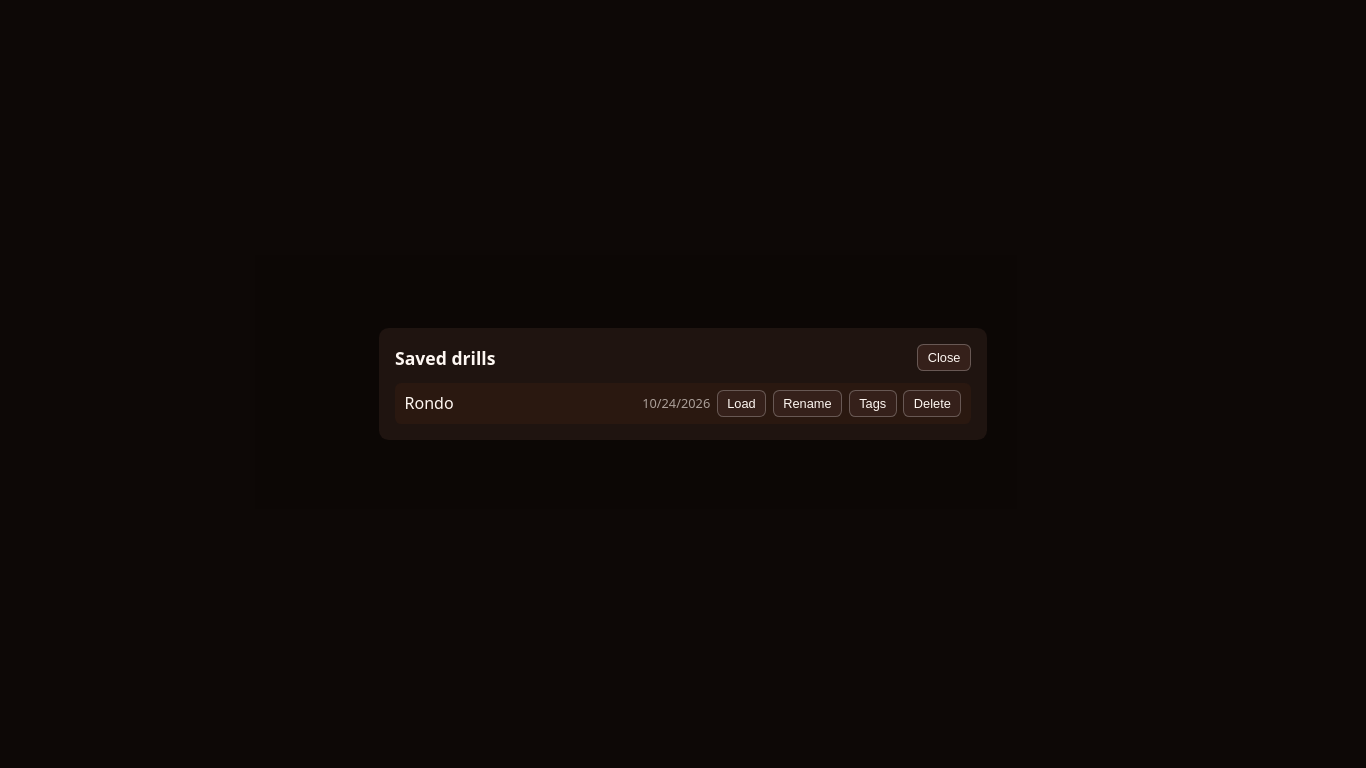
deleting › warns that usage could not be checked when the sessions store is unreadable
The image size is (1366, 768).
Click the button "Delete".
click(932, 403)  # box [903,390,961,417]
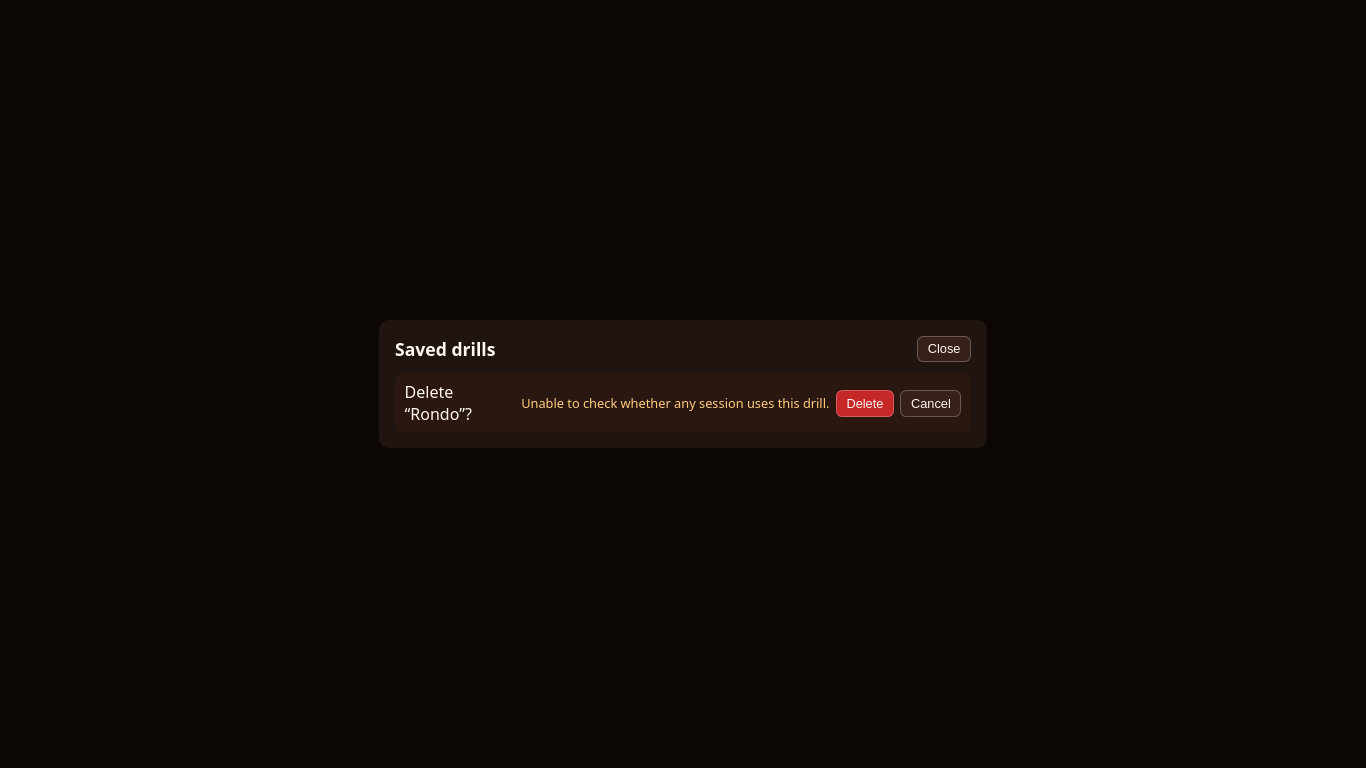
Check: the text "Unable to check whether any session uses this drill." is shown, box [521,394,829,412]
